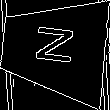N_W: (30, 26, 77, 71)
